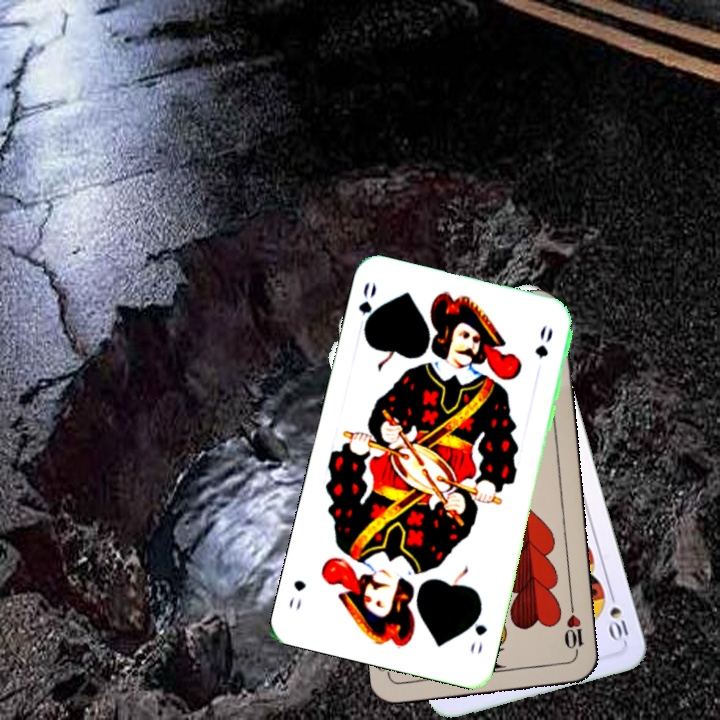GO: (354, 277, 381, 338), (466, 603, 490, 657)
H10: (560, 601, 587, 660)
S10: (605, 586, 631, 645)
